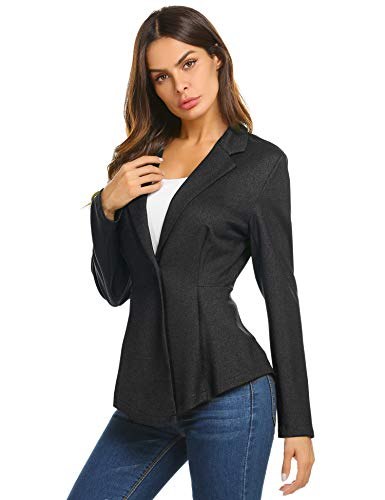F_W_suit jacket: (85, 134, 315, 421)
